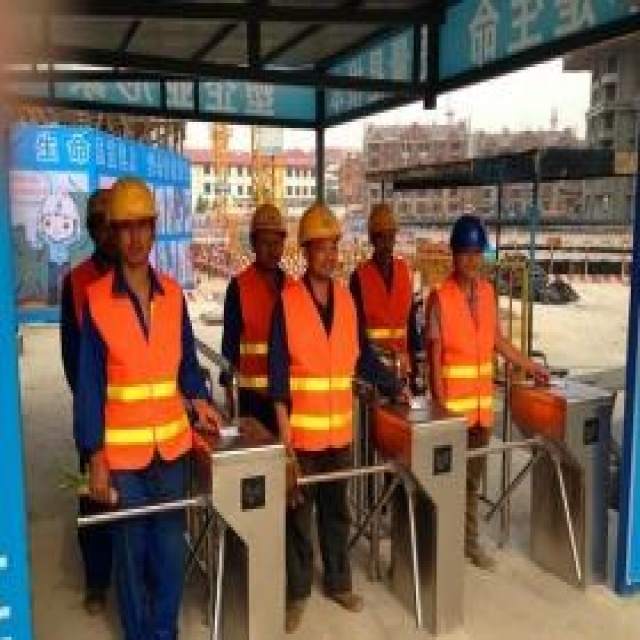Helmet: (99, 170, 173, 283), (293, 197, 350, 289), (357, 186, 409, 284), (441, 208, 498, 293), (242, 192, 292, 282)
Reflective vest: (81, 275, 198, 465), (282, 275, 365, 458), (431, 284, 506, 437)
